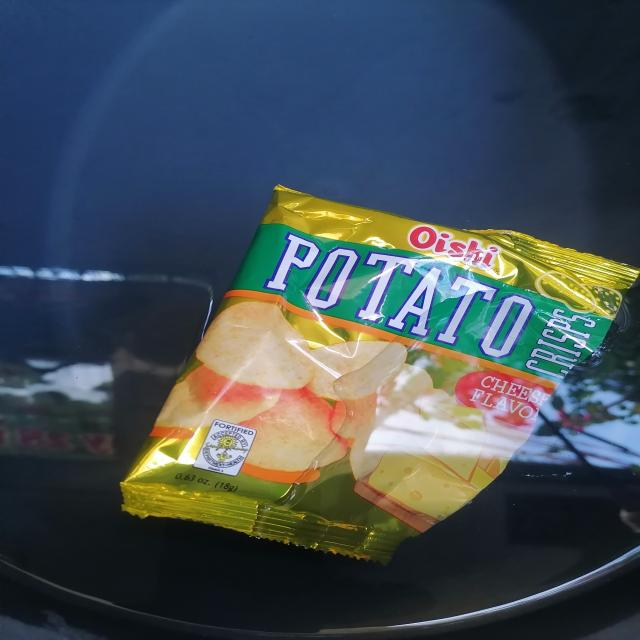Plastic Wrapper: (121, 185, 637, 561)
